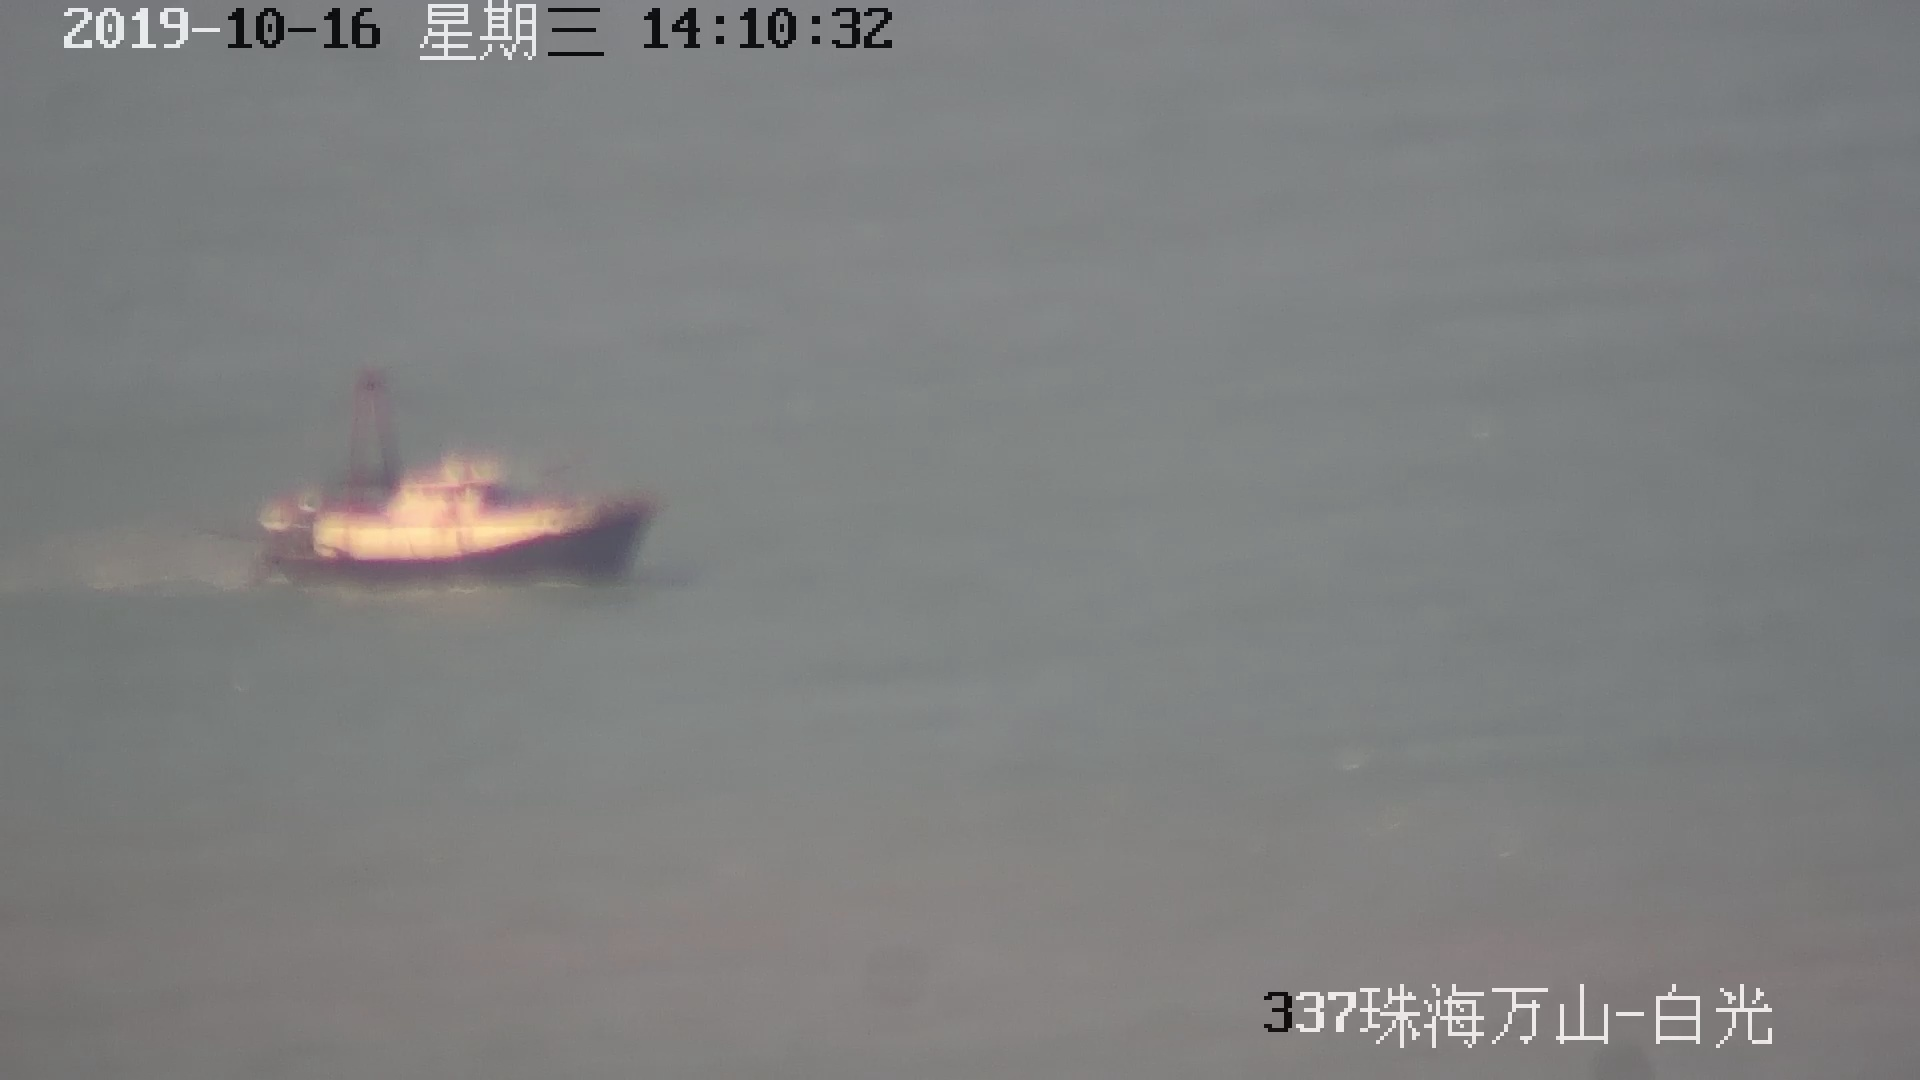ship: (258, 367, 662, 589)
